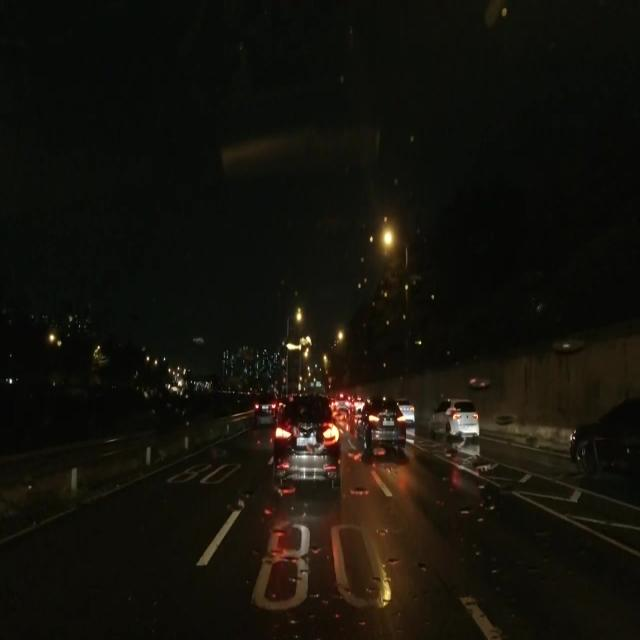Car: (567, 383, 636, 481), (274, 393, 340, 487), (355, 401, 402, 448), (429, 397, 477, 438), (252, 393, 275, 427)
